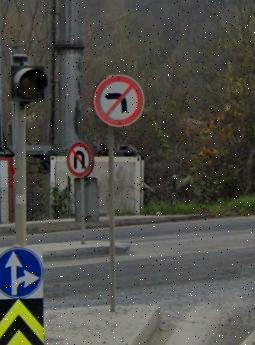rightturnsareforbidden: (96, 76, 143, 127)
